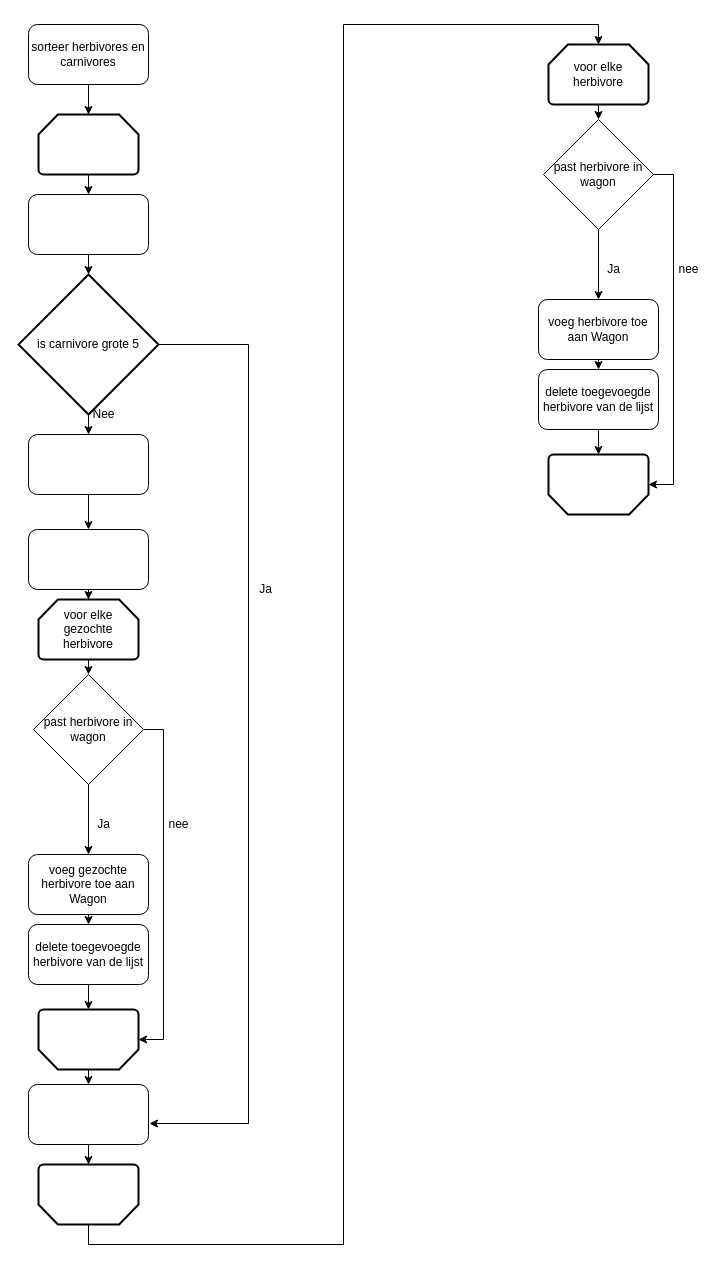
The diagram is 725 pixels wide and 1270 high, and some of its shapes have lost their labels. The box of each missing label's shape, as (x1, y1, x2, y2) in pixels:
delete toegevoegde carnivore van de lijst: (28, 434, 148, 494)
voeg carnivore toe aan Wagon: (28, 194, 148, 254)
voeg wagon toe aan trein: (28, 1084, 148, 1144)
voor elke carnivore: (37, 113, 139, 175)
zoek naar herbivores die groter zijn dan de carnivore: (28, 528, 148, 590)
